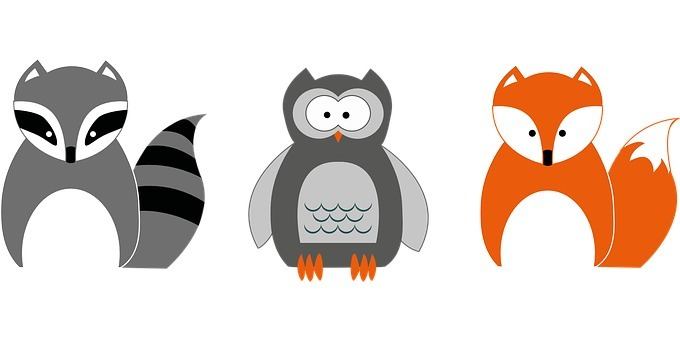bird: (234, 50, 436, 293)
